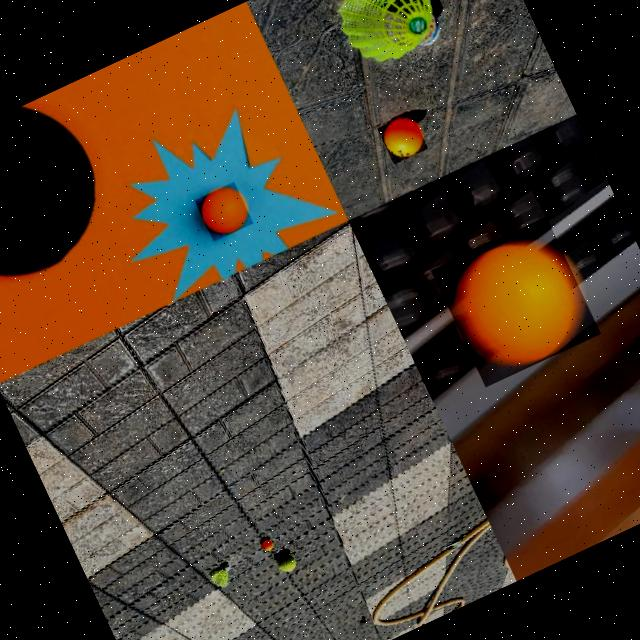ping-pong-ball: (431, 215, 602, 388), (195, 181, 254, 241), (378, 112, 429, 164), (260, 539, 275, 554)
